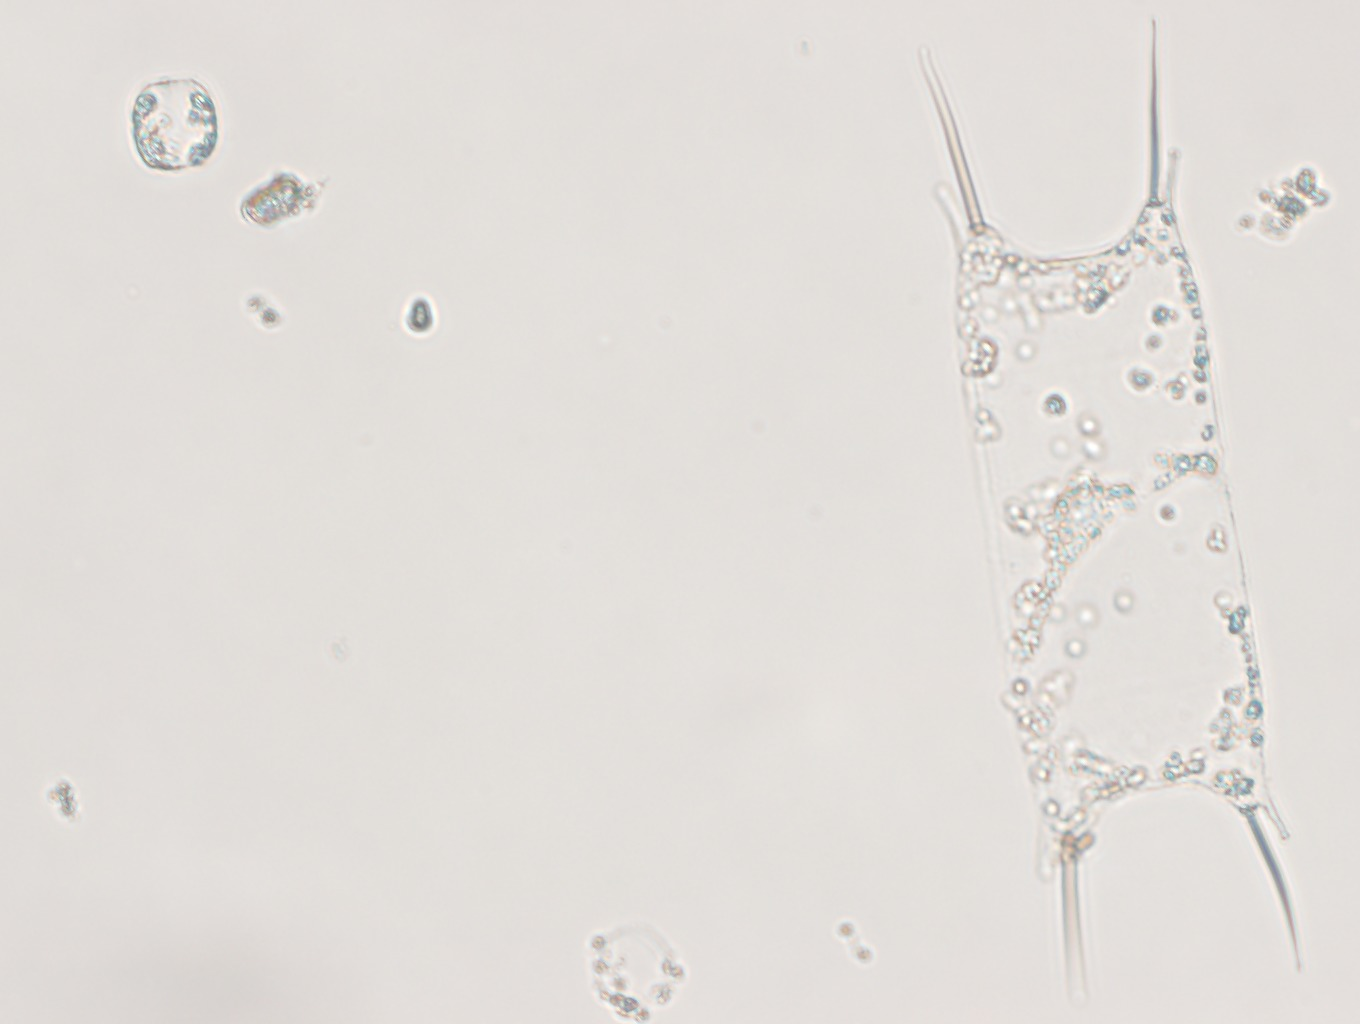biddulphia: (887, 26, 1341, 1006)
